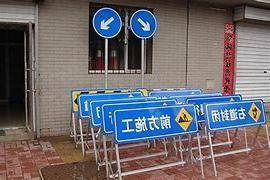sign: (112, 104, 200, 142), (206, 98, 266, 128)
